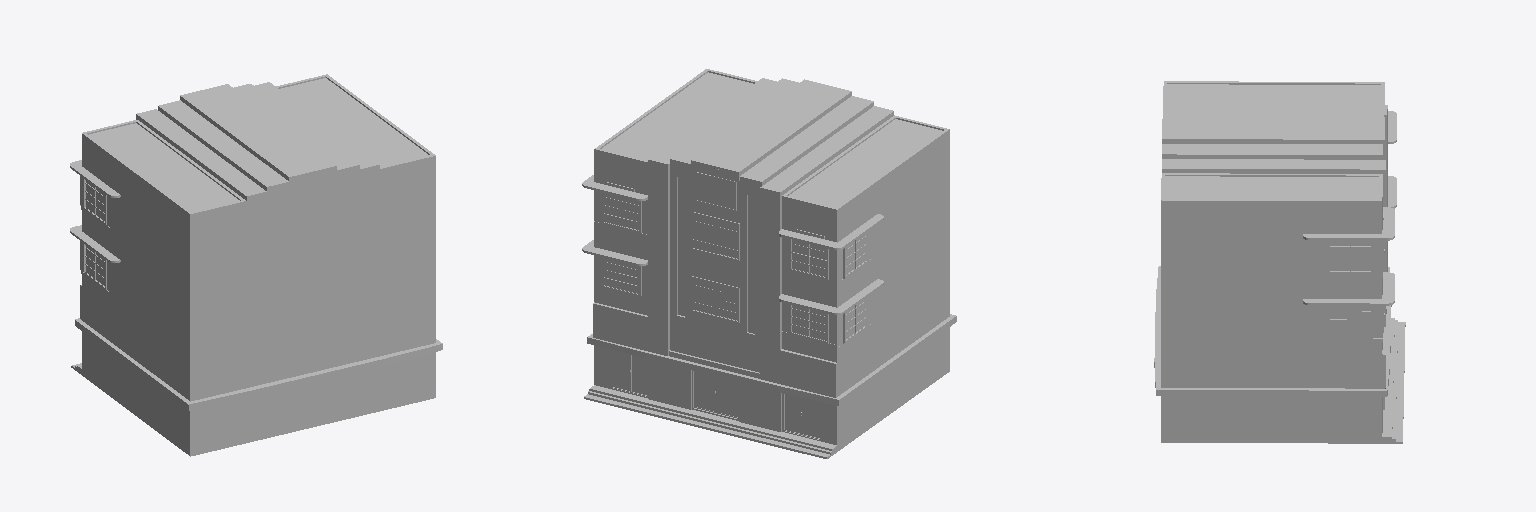
Rendered from HD Building 31 OBJ.obj.
3 renders of one model, left to right at view 1: azimuth 30°, elevation 25°; view 2: azimuth 150°, elevation 25°; view 3: azimuth 270°, elevation 25°, orthographic.
Visible parts, largest first — view 1: HD_BUILDING_31; view 2: HD_BUILDING_31; view 3: HD_BUILDING_31.
Part boxes in pixels (x1,y1,x2,y2): HD_BUILDING_31: (70, 74, 442, 456); HD_BUILDING_31: (582, 69, 956, 458); HD_BUILDING_31: (1154, 81, 1405, 443).
Bounding box in the file's own units: 485 × 452 × 402.